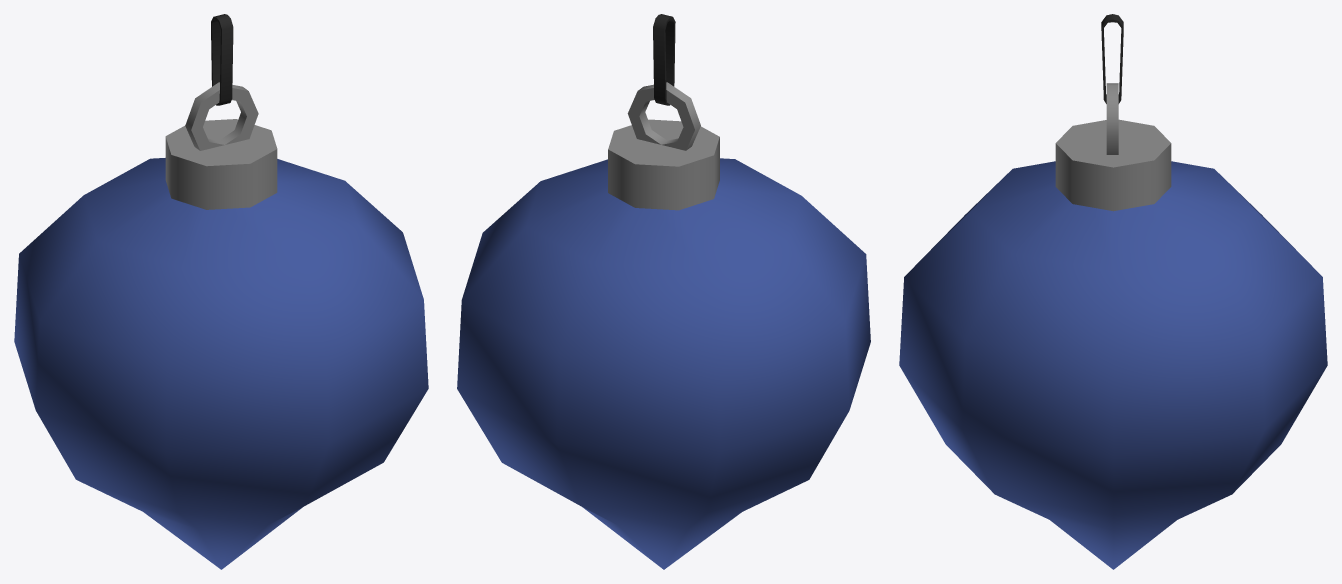
Rendered from Ornament_03.fbx.
3 views of the same model, side by side, from view 1: azimuth 30°, elevation 25°; view 2: azimuth 150°, elevation 25°; view 3: azimuth 270°, elevation 25° (orthographic).
Parts seen in each view (by area): view 1: Ornament_03; view 2: Ornament_03; view 3: Ornament_03.
Boxes of the visible parts, x1,y1,x2,y2 form: Ornament_03: (14, 14, 428, 569); Ornament_03: (457, 14, 870, 569); Ornament_03: (899, 14, 1327, 569).
Size of the model in its own units: 0.1174 by 0.1673 by 0.1174.
